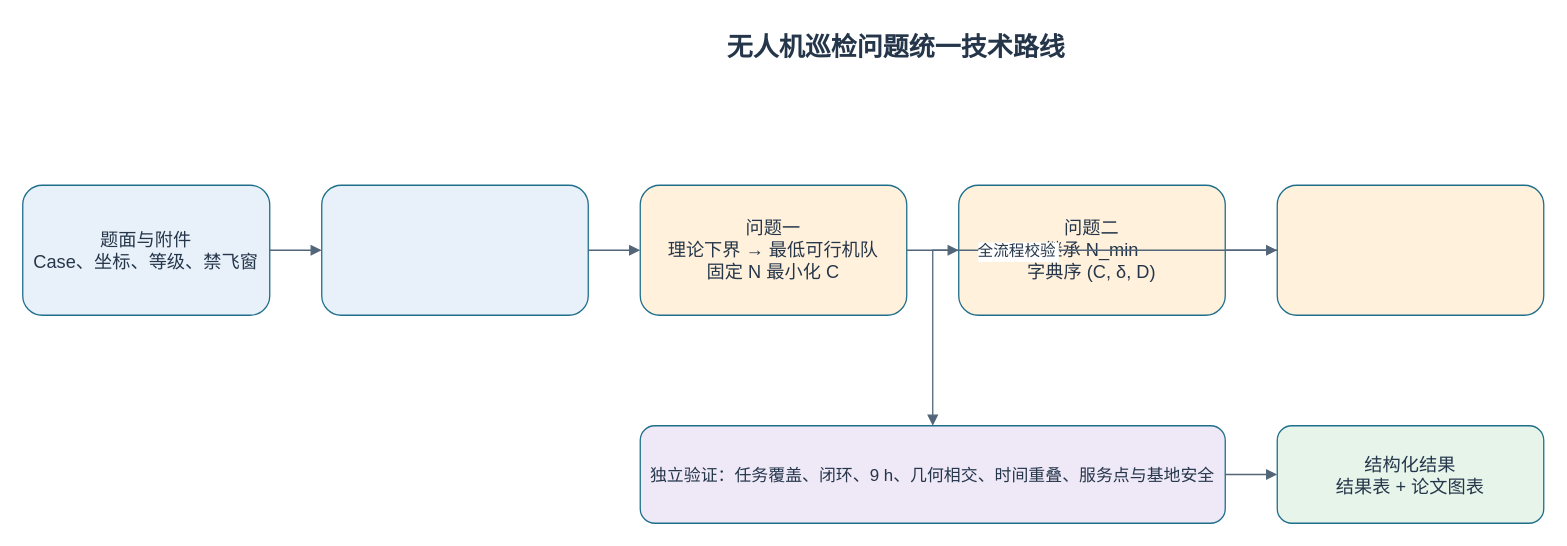
This 1567x546 diagram has some shape labels left out. Each missing label, with the centre of its shape:
数据标准化 单位换算 + 任务展开 有效到达约束: (x=454, y=249)
问题三 动态禁飞时空路径 必要时最小增机: (x=1410, y=249)
